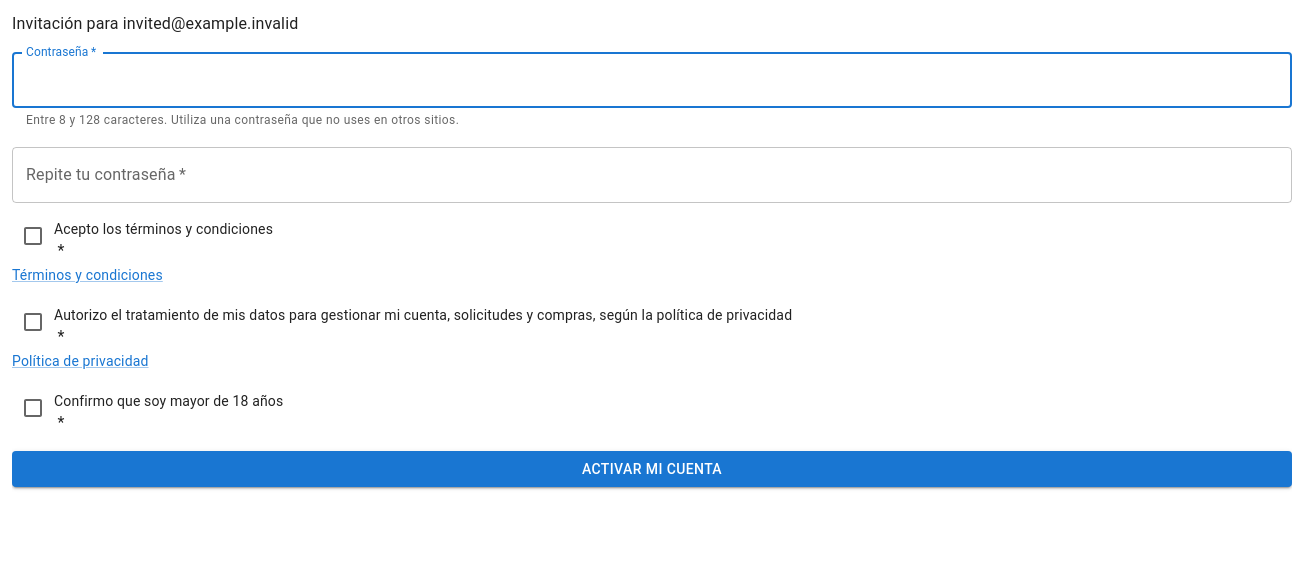
does not post mismatched passwords and reports errors without displaying passwords
Type "long-password" into the password field labelled "Contraseña *".
click(652, 80); type("long-password")  # box [12,52,1292,108]
Type "different-password" into the password field labelled "Repite tu contraseña *".
click(652, 175); type("different-password")  # box [12,147,1292,203]
Click the checkbox labelled "Acepto los términos y condiciones *".
click(164, 229)  # box [21,221,273,260]
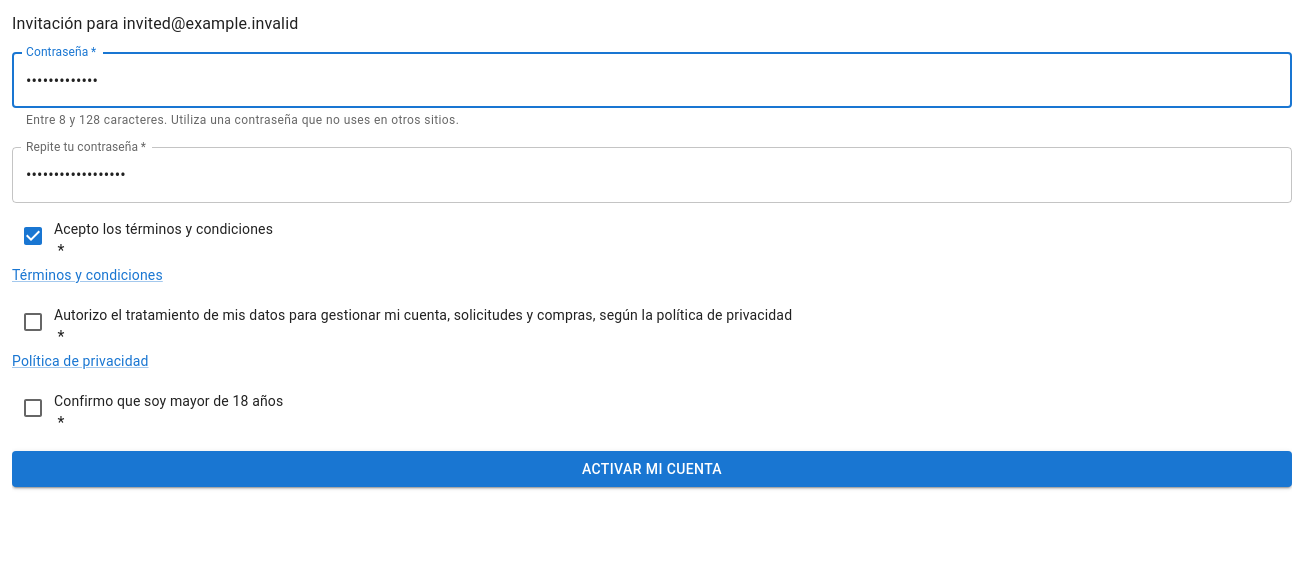
Click the checkbox named "Autorizo el tratamiento de mis datos para gestionar mi cuent".
click(423, 315)  # box [21,307,792,346]
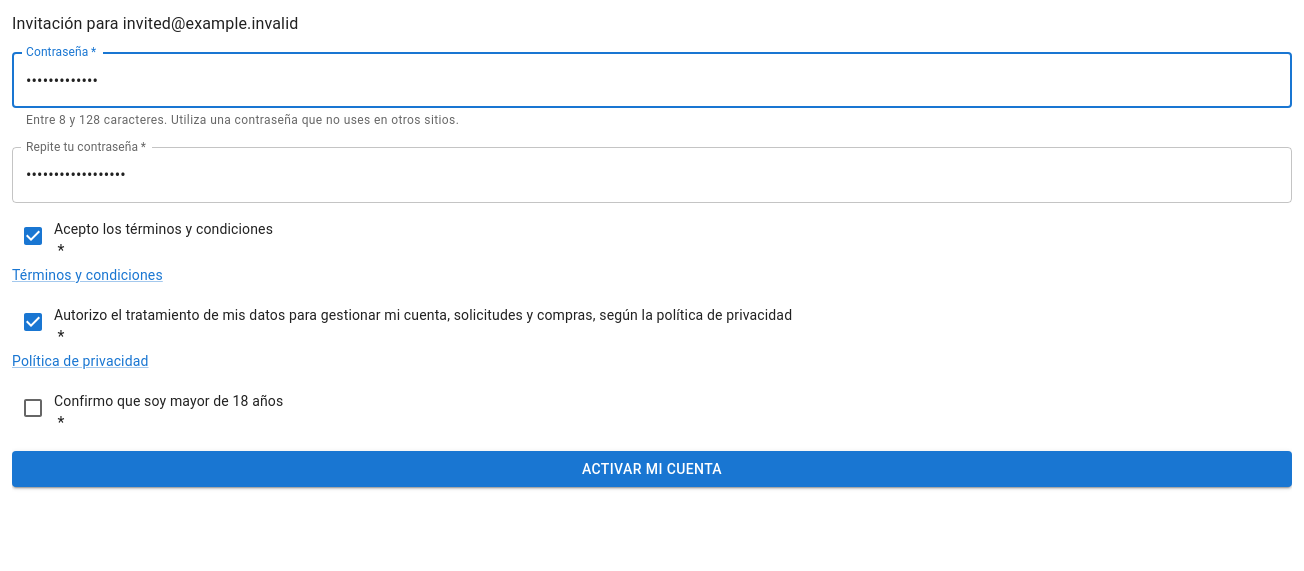
Click the checkbox labelled "Confirmo que soy mayor de 18 años *".
click(169, 401)  # box [21,393,283,432]
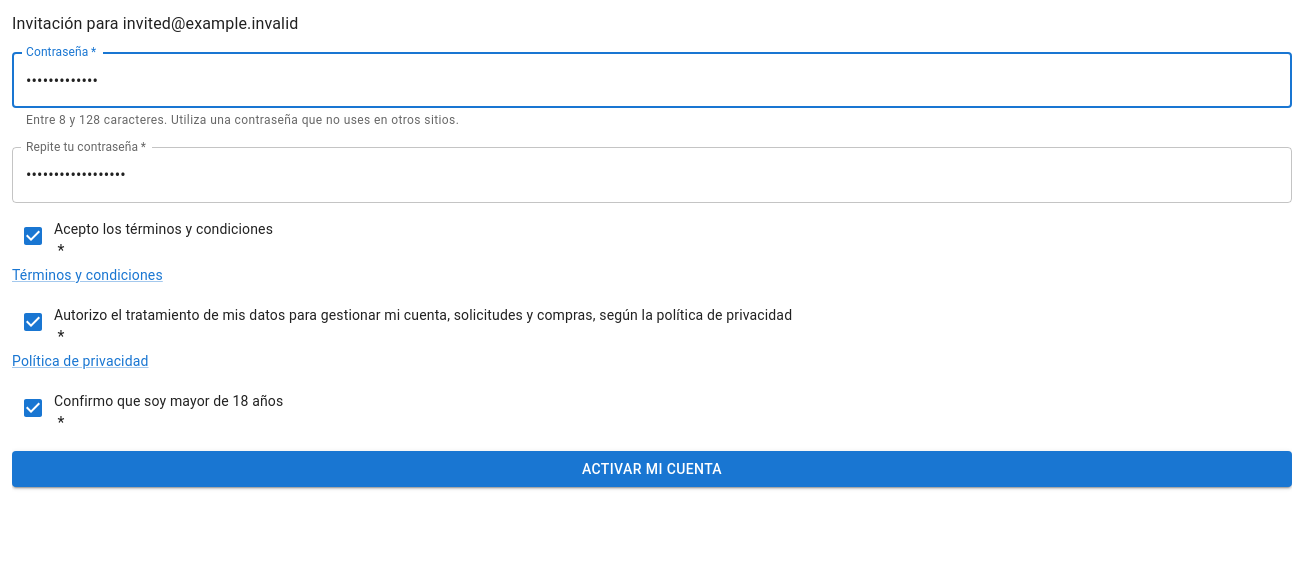
Click the button "Activar mi cuenta".
click(652, 469)  # box [12,451,1292,488]
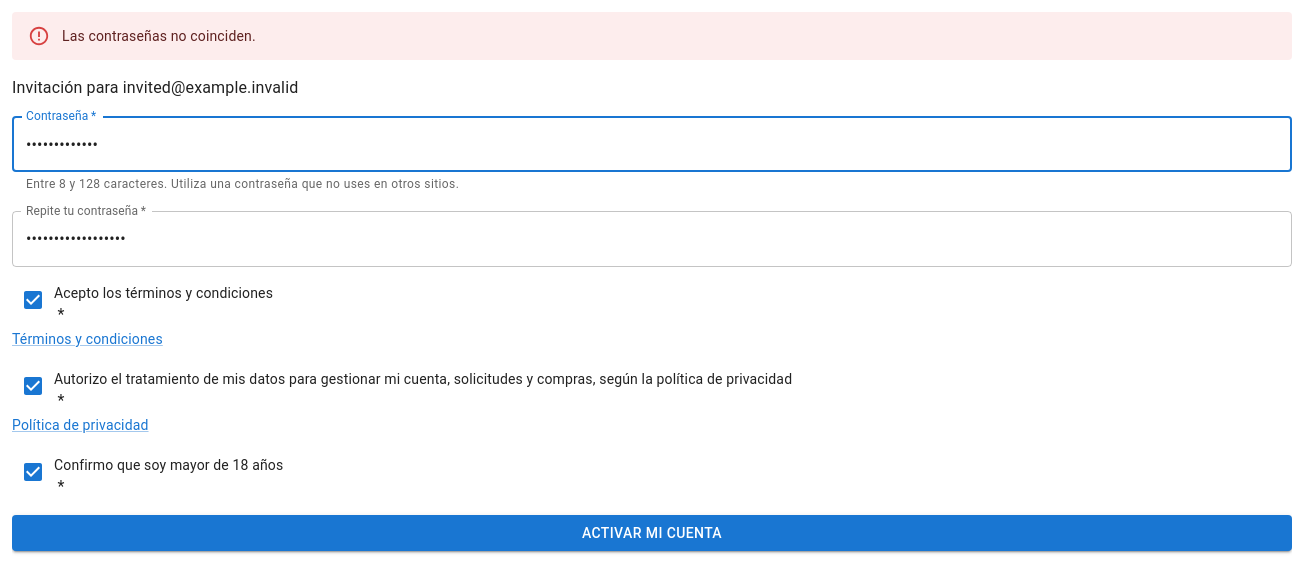
Check: the text "Las contraseñas no coinciden." is shown, box [62,28,256,44]
Type "long-password" into the password field labelled "Repite tu contraseña *".
click(652, 239); type("long-password")  # box [12,211,1292,267]
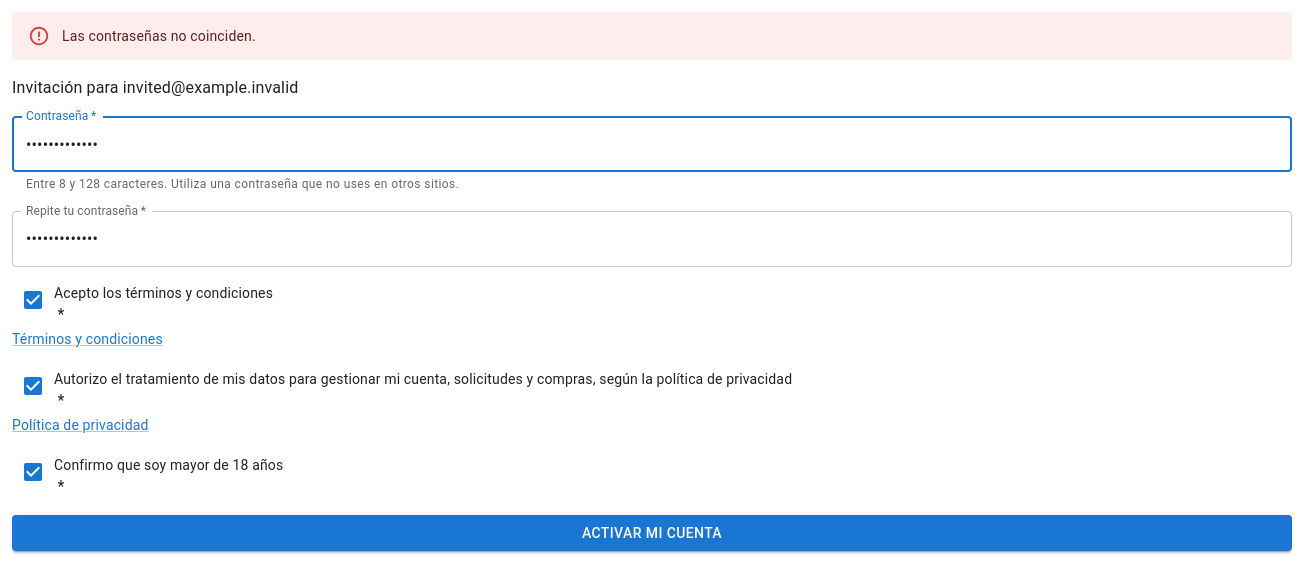
Click the button "Activar mi cuenta".
click(652, 533)  # box [12,515,1292,552]
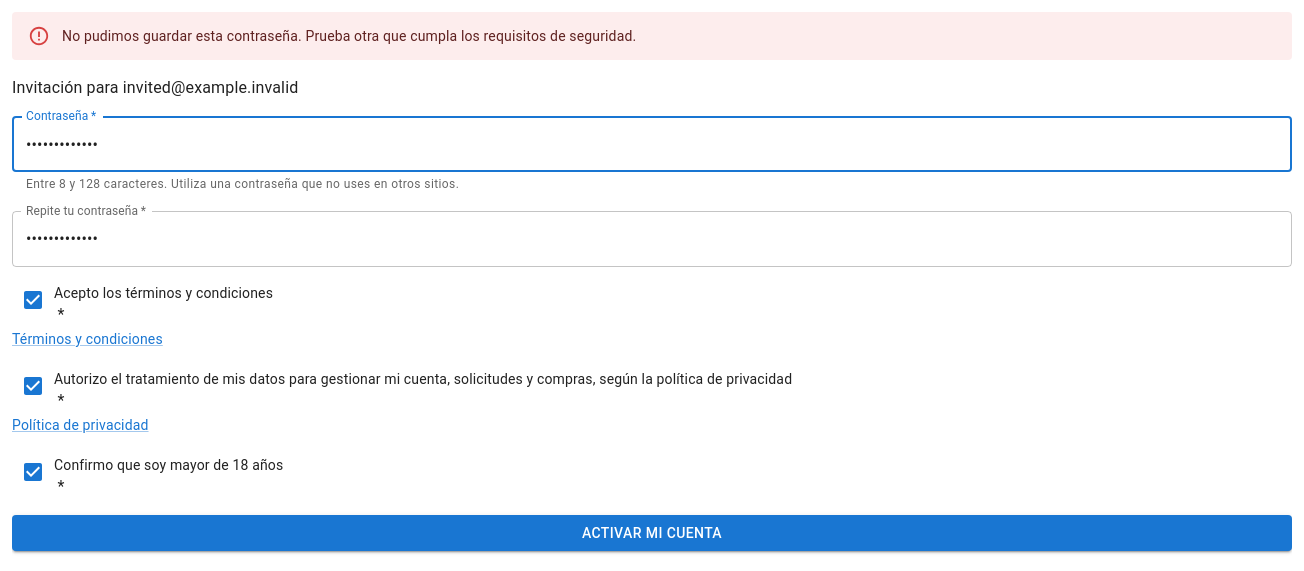
Check: the text "No pudimos guardar esta contraseña. Prueba otra que cumpla los requisitos de seguridad." is shown, box [62,28,636,44]
